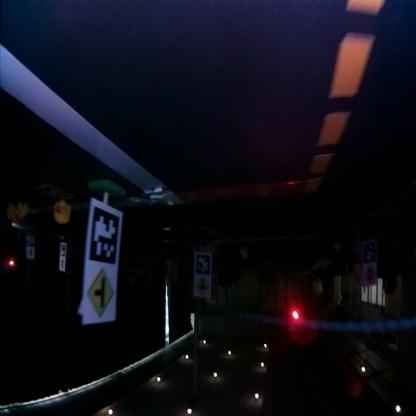Duckie: (53, 202, 72, 226), (18, 204, 29, 220), (8, 204, 16, 222)
Intersection sign: (86, 268, 116, 319), (196, 278, 210, 297)
QR code: (92, 205, 121, 265), (35, 185, 74, 201), (197, 254, 212, 274), (362, 242, 376, 262), (62, 245, 68, 252)
Signal sign: (364, 264, 378, 285)
Traffic light: (291, 306, 303, 327)
